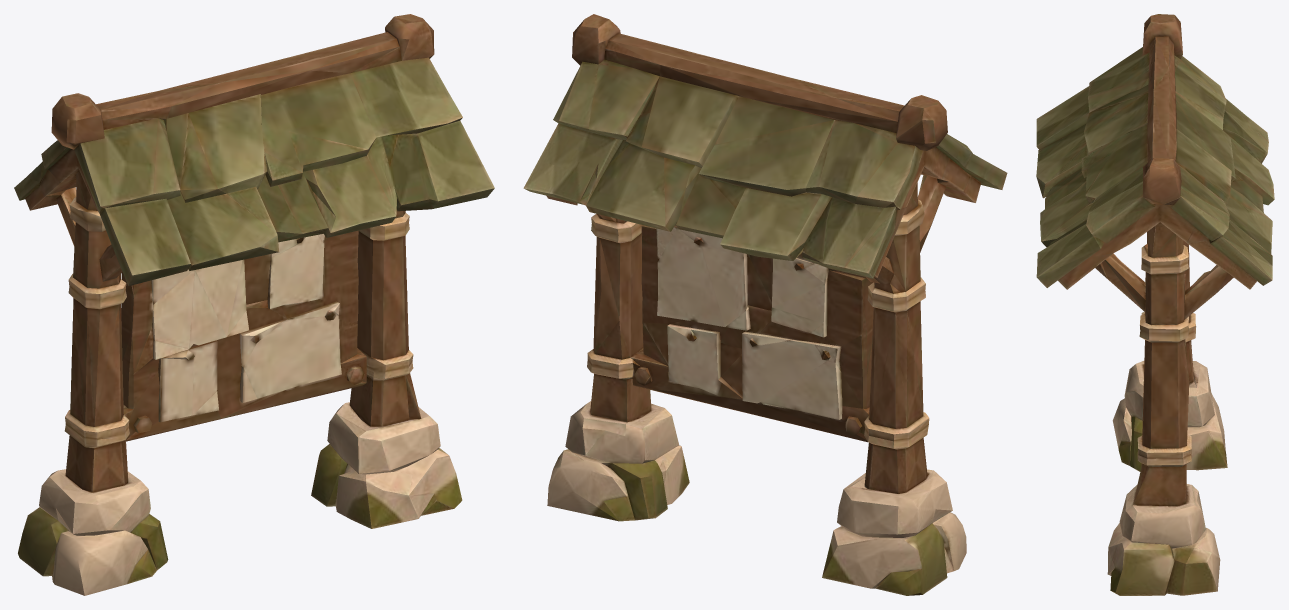
The model's file is alpha-notice-board.glb.
3 renders of one model, left to right at view 1: azimuth 30°, elevation 25°; view 2: azimuth 150°, elevation 25°; view 3: azimuth 270°, elevation 25°, orthographic. The views are drawn at different scales.
Bounding box in the file's own units: 1.64 × 1.9 × 0.9737.
Materials: 1 (1 with a texture image).
